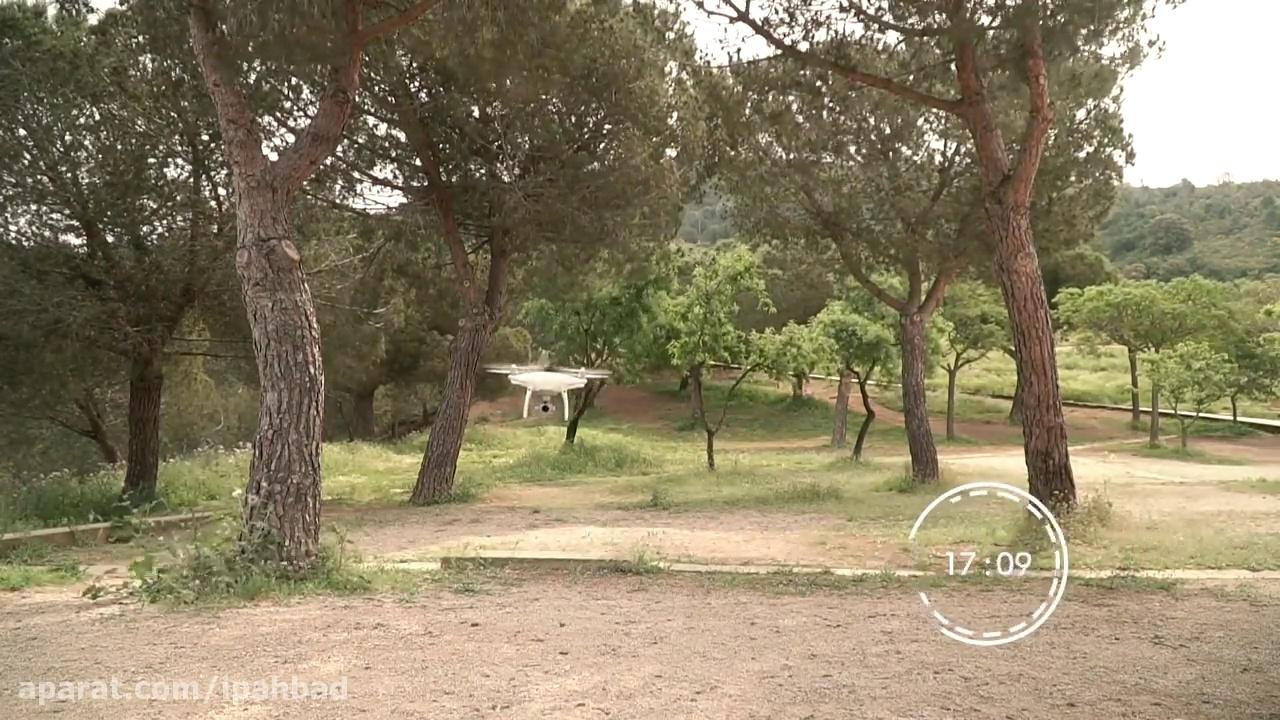drone: (480, 357, 616, 422)
